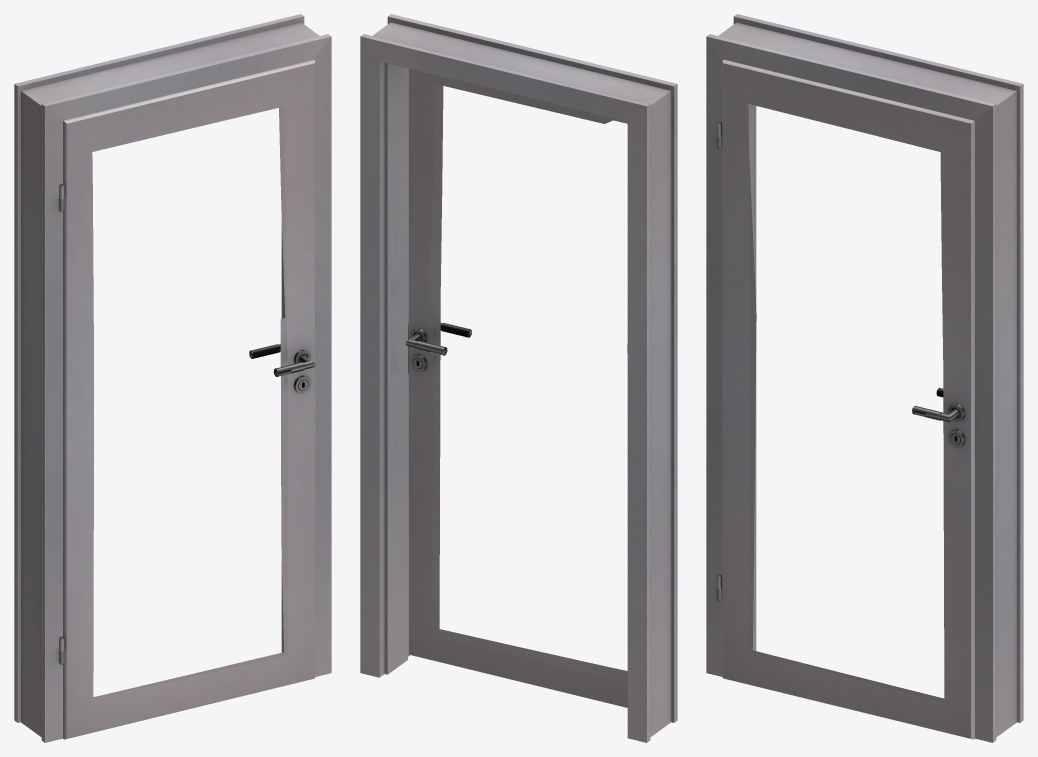
The model's file is door_with_glass_full.glb.
3 views of the same model, side by side, from view 1: azimuth 30°, elevation 25°; view 2: azimuth 150°, elevation 25°; view 3: azimuth 330°, elevation 25° (orthographic).
Parts seen in each view (by area): view 1: Plane.002, Plane.001, Circle.002; view 2: Plane.002, Plane.001, Circle.002; view 3: Plane.002, Plane.001.
Boxes of the visible parts, x1,y1,x2,y2 form: Plane.002: (14, 14, 331, 742); Plane.001: (59, 59, 315, 739); Circle.002: (249, 344, 315, 376); Plane.002: (360, 14, 677, 742); Plane.001: (408, 68, 627, 707); Circle.002: (405, 322, 471, 355); Plane.002: (706, 14, 1023, 742); Plane.001: (716, 59, 974, 739).
Bounding box in the file's own units: 97 × 206 × 26.06.
2 materials, 2 textured.
